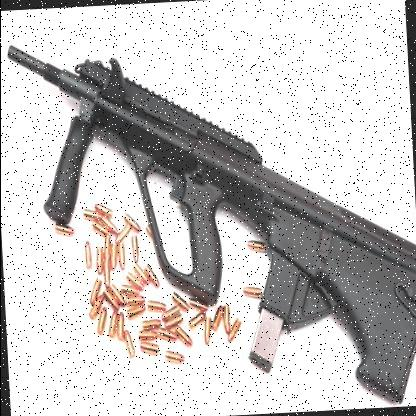rifle: (3, 12, 416, 415)
